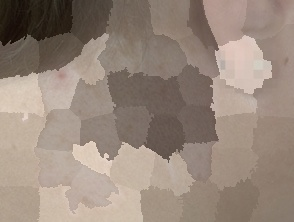vitiligo: (27, 55, 81, 106)
